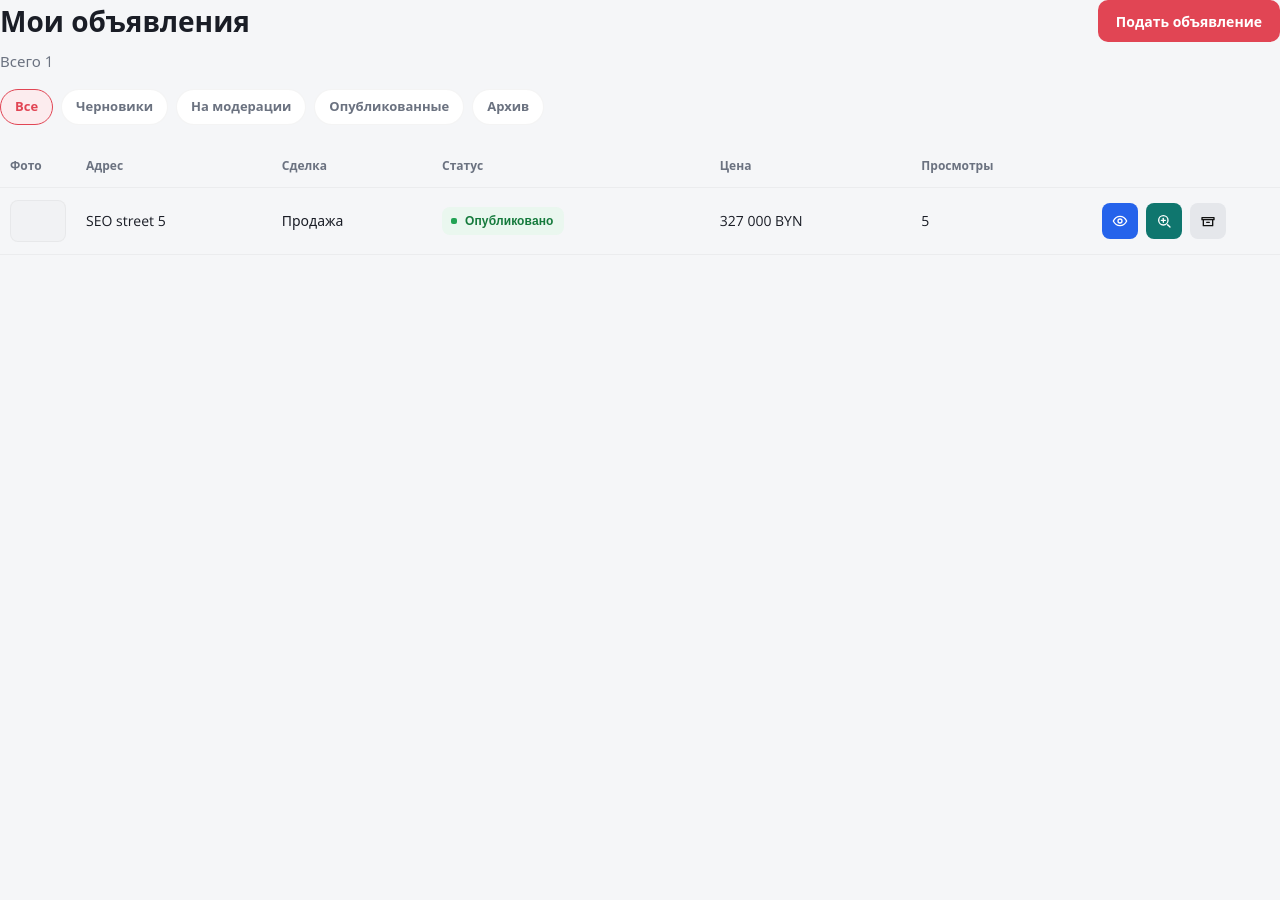
Test case: AccountListingsView › opens SEO modal for a listing
The image size is (1280, 900).
Click the button with test id "listing-seo" at (1164, 220), box [1146, 202, 1182, 238]
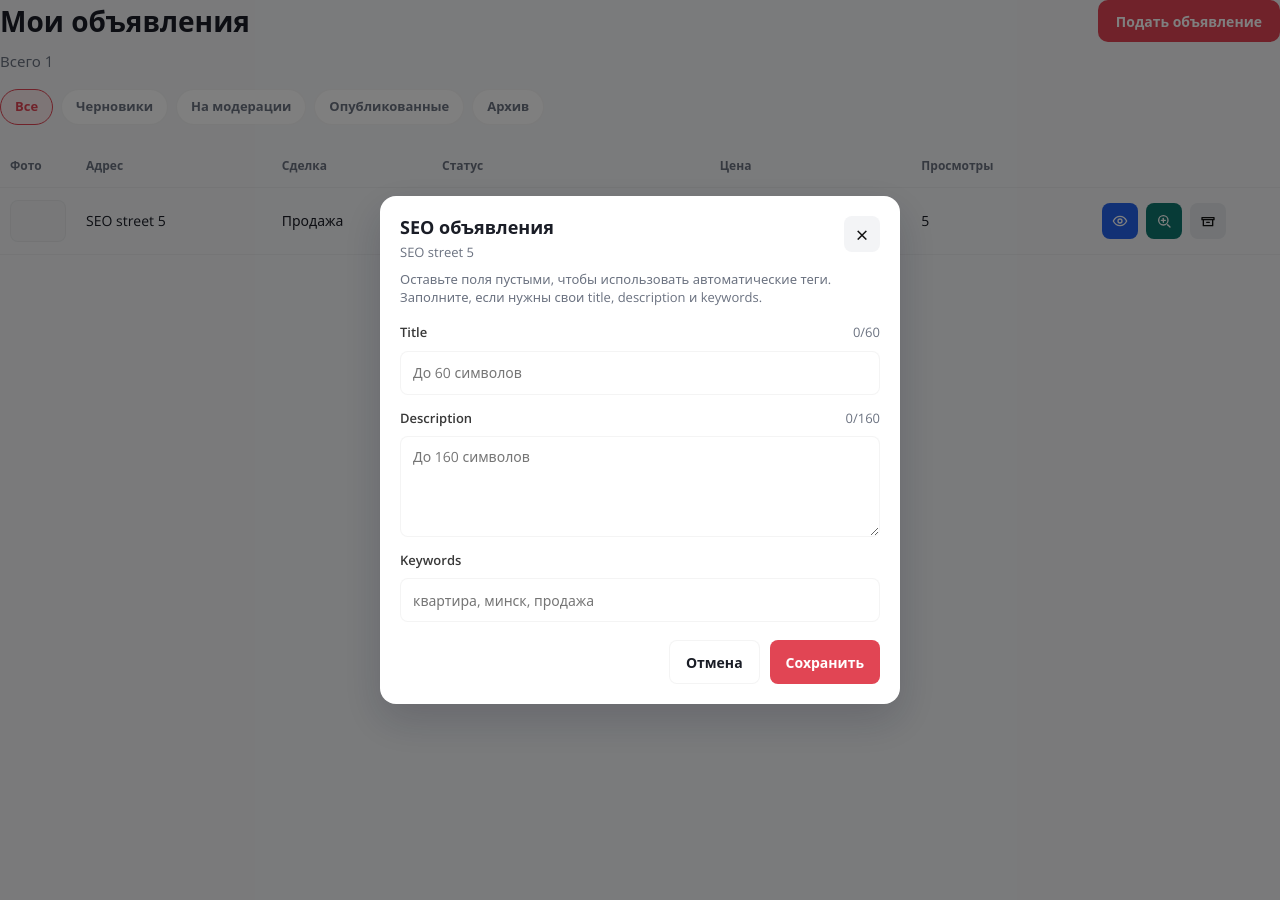
Expected: the text "SEO street 5" is shown, [76, 187, 272, 254]
Result: the element with test id "listing-seo-modal" is shown
Result: the text "SEO объявления" is shown at [400, 216, 554, 239]
